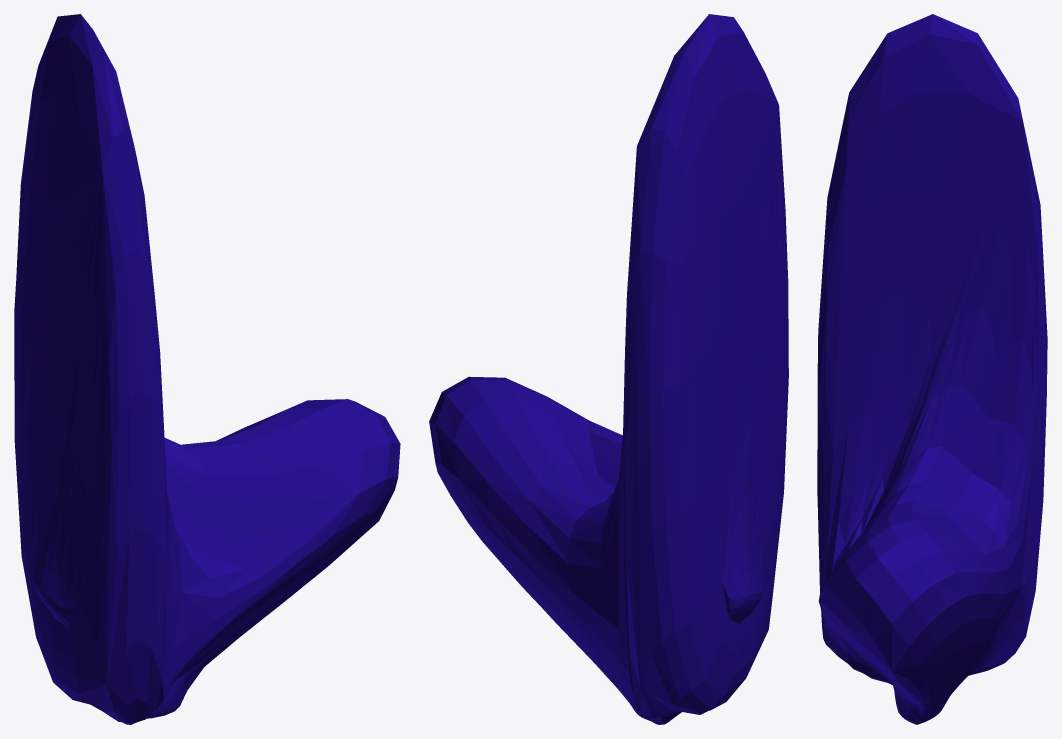
3 views of the same model, side by side, from view 1: azimuth 30°, elevation 25°; view 2: azimuth 150°, elevation 25°; view 3: azimuth 270°, elevation 25° (orthographic). The views are drawn at different scales.
Parts seen in each view (by area): view 1: 187_Cube.777; view 2: 187_Cube.777; view 3: 187_Cube.777.
Part boxes in pixels (<box>): 187_Cube.777: <box>14,14,400,724</box>; 187_Cube.777: <box>429,14,788,724</box>; 187_Cube.777: <box>817,14,1047,724</box>.
Size of the model in its own units: 5.72 by 11.65 by 3.59.
